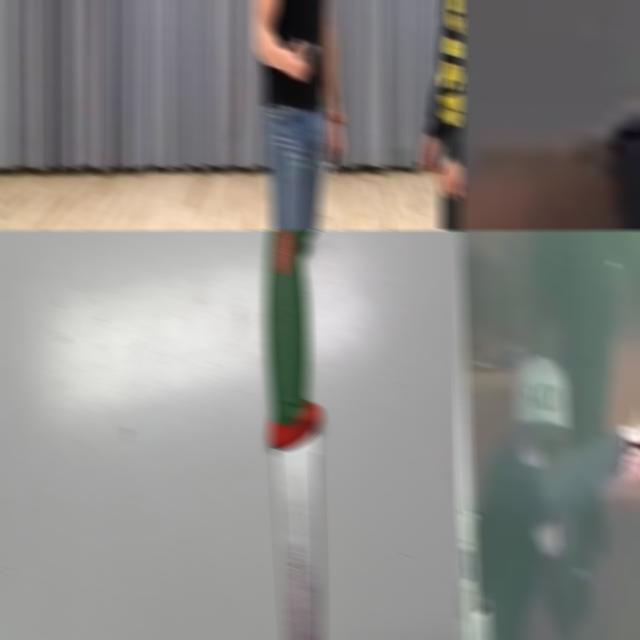Knife: (266, 230, 323, 640)
Knife_Handle: (458, 9, 614, 230), (620, 339, 640, 483), (286, 37, 318, 82), (325, 120, 344, 175)
